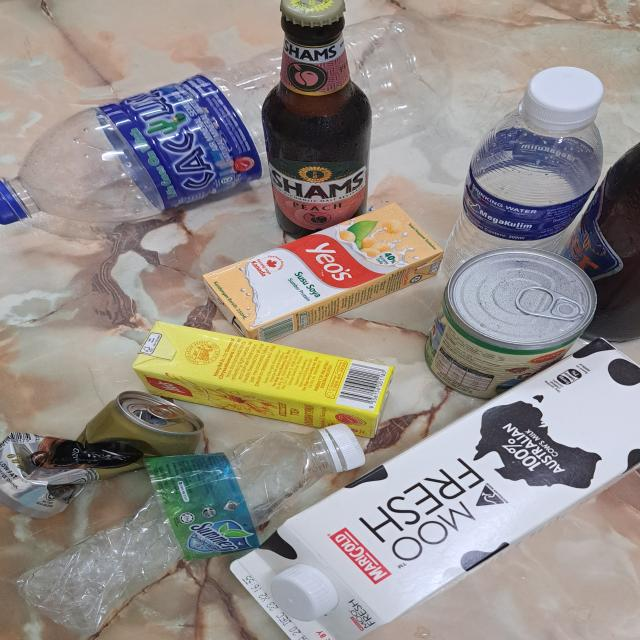can: (0, 385, 207, 503), (429, 252, 597, 397)
drink carton: (225, 339, 640, 639), (193, 201, 444, 332), (130, 320, 393, 435)
glass bottle: (261, 0, 382, 242)
plastic bottle: (17, 13, 447, 219), (12, 432, 326, 634), (457, 104, 606, 287)
plastic bottle cap: (262, 556, 338, 626), (530, 67, 604, 123), (318, 418, 371, 473), (324, 421, 364, 480), (0, 172, 21, 224)
pop tab: (516, 282, 586, 321)
